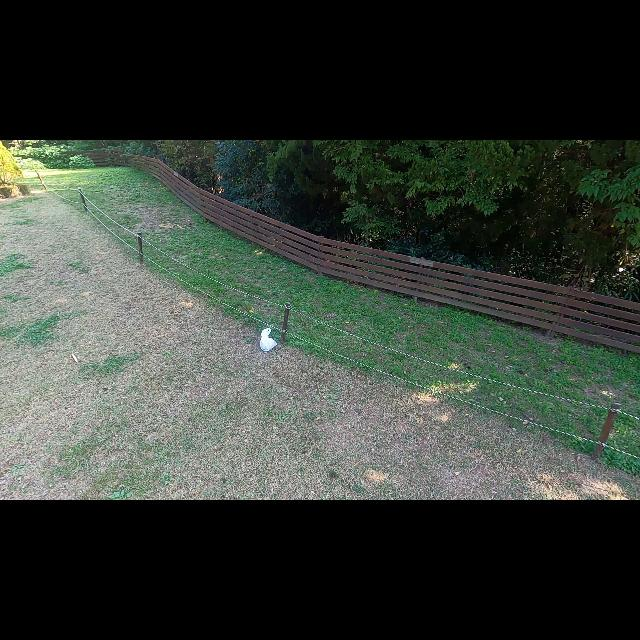trash: (254, 326, 278, 356)
